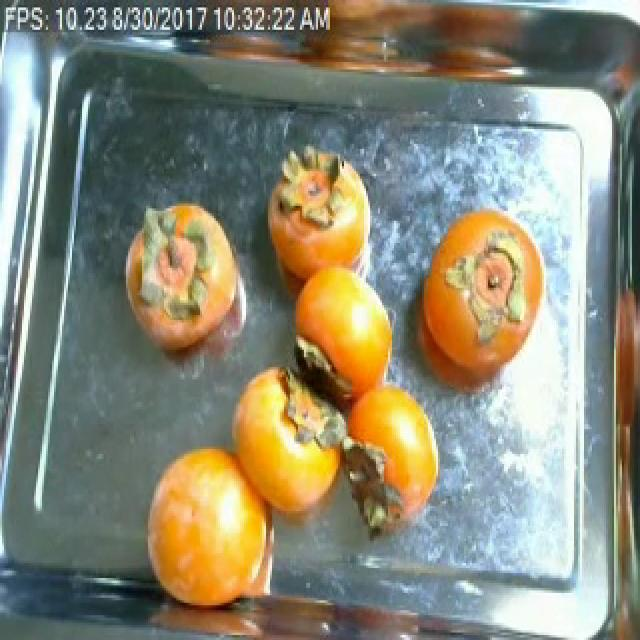Fruit: (130, 429, 286, 630), (114, 186, 254, 377)
